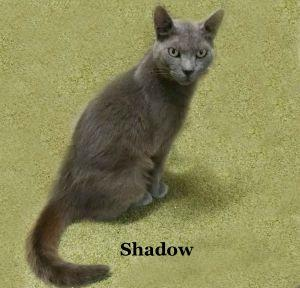rblue: (134, 1, 232, 100)
